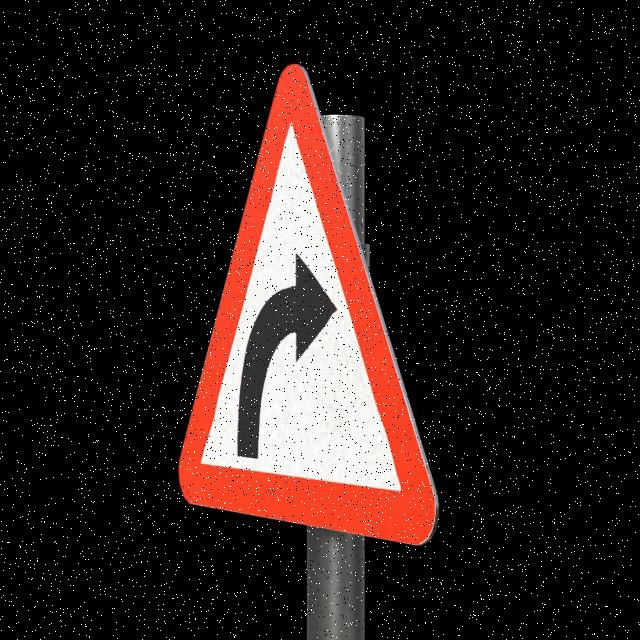Righthand_curve: (176, 52, 437, 548)
